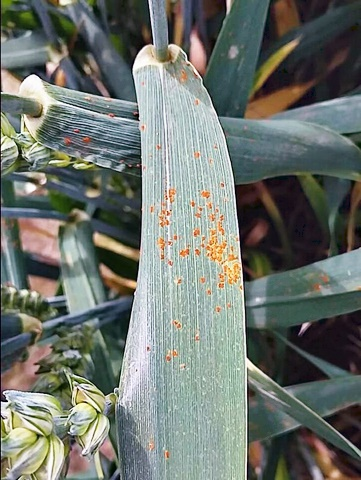Leaf Rust: (133, 173, 258, 332)
